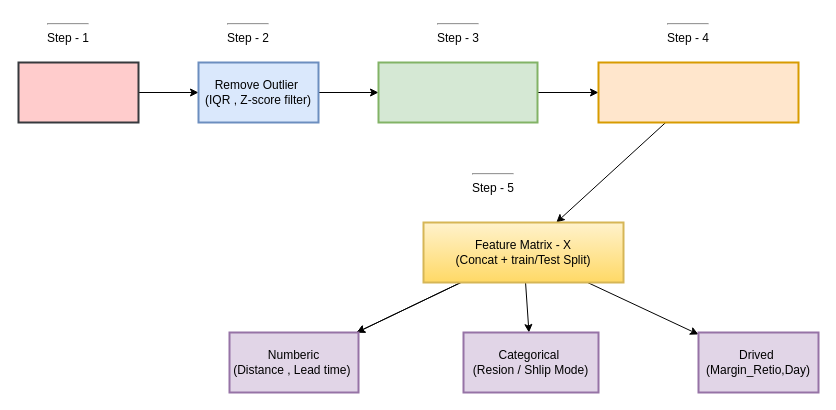
This 836x410 diagram has some shape labels left out. The box of each missing label's shape, as (x1, y1, x2, y2) in pixels:
Encoded Categorical (LableEncoder ,OHE, Target ): (597, 61, 799, 123)
Lead & inspect (dtype,null,shape): (17, 61, 139, 123)
Normelize Numerical (StanderedScaler & MinMax): (377, 61, 538, 123)
